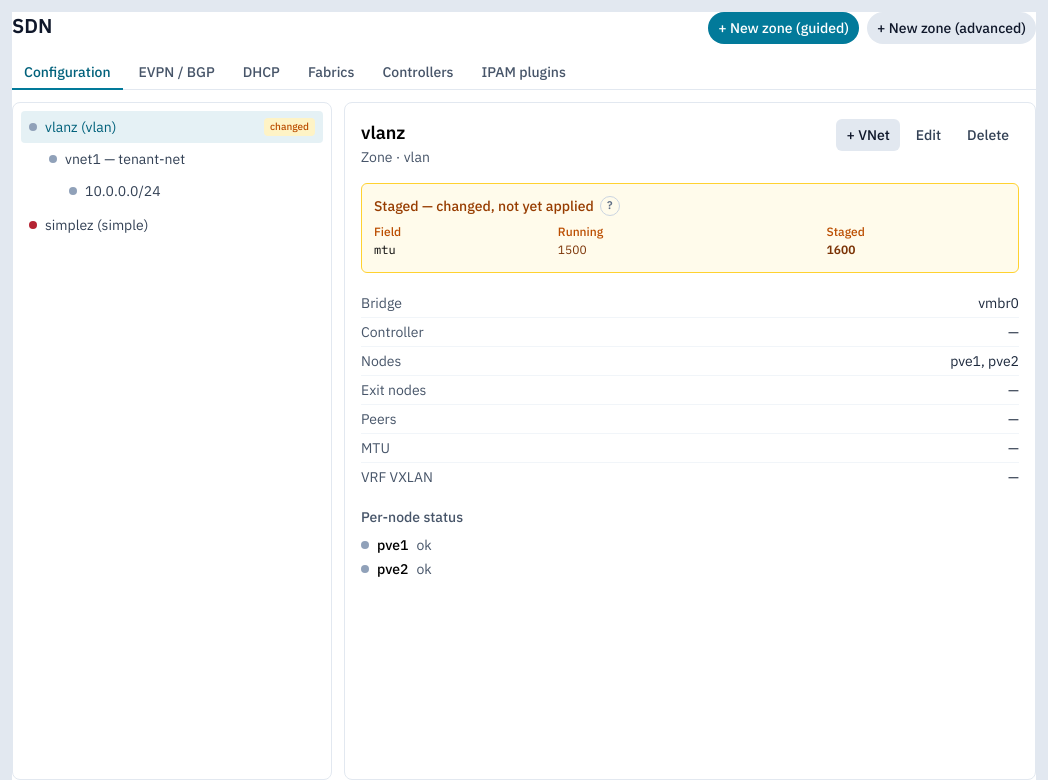
Scenario: SdnPage › selecting a vnet and then a subnet updates the detail panel each time
Expected: the text "vnet1 — tenant-net" is shown, [65,149,185,169]
Click the list item "vnet1 — tenant-net".
click(172, 159)  # box [21,143,323,175]
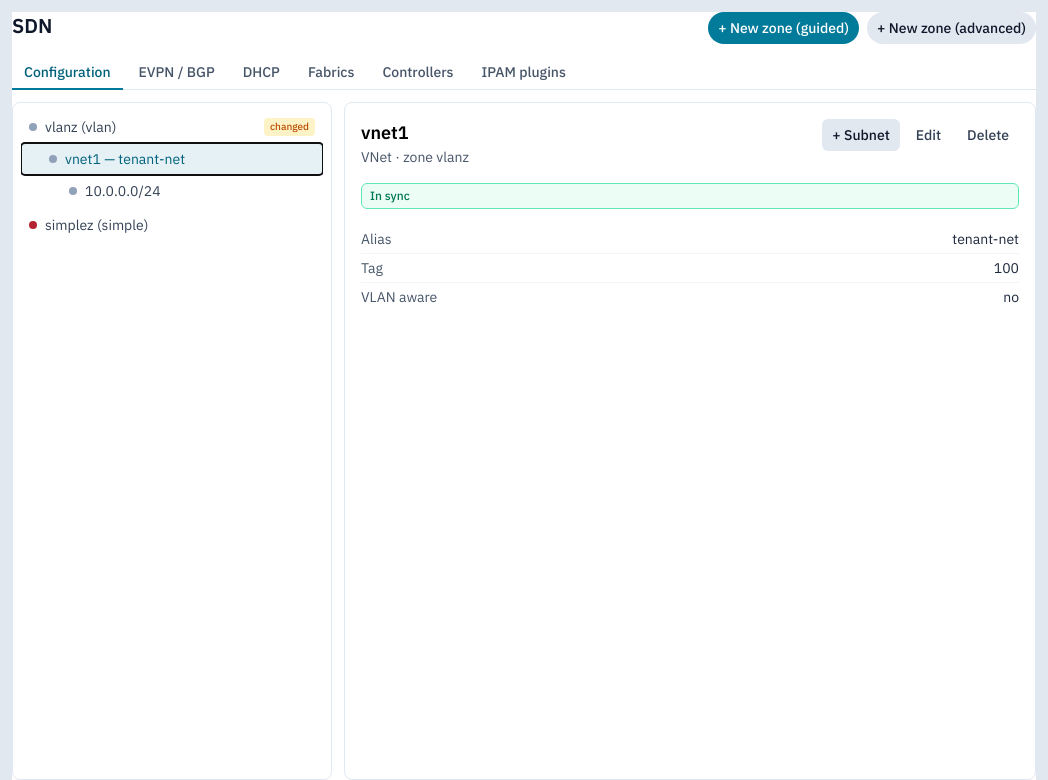
Expected: the heading "vnet1" is shown, [361,121,409,144]
Click the list item "10.0.0.0/24".
click(123, 191)  # box [21,175,323,207]
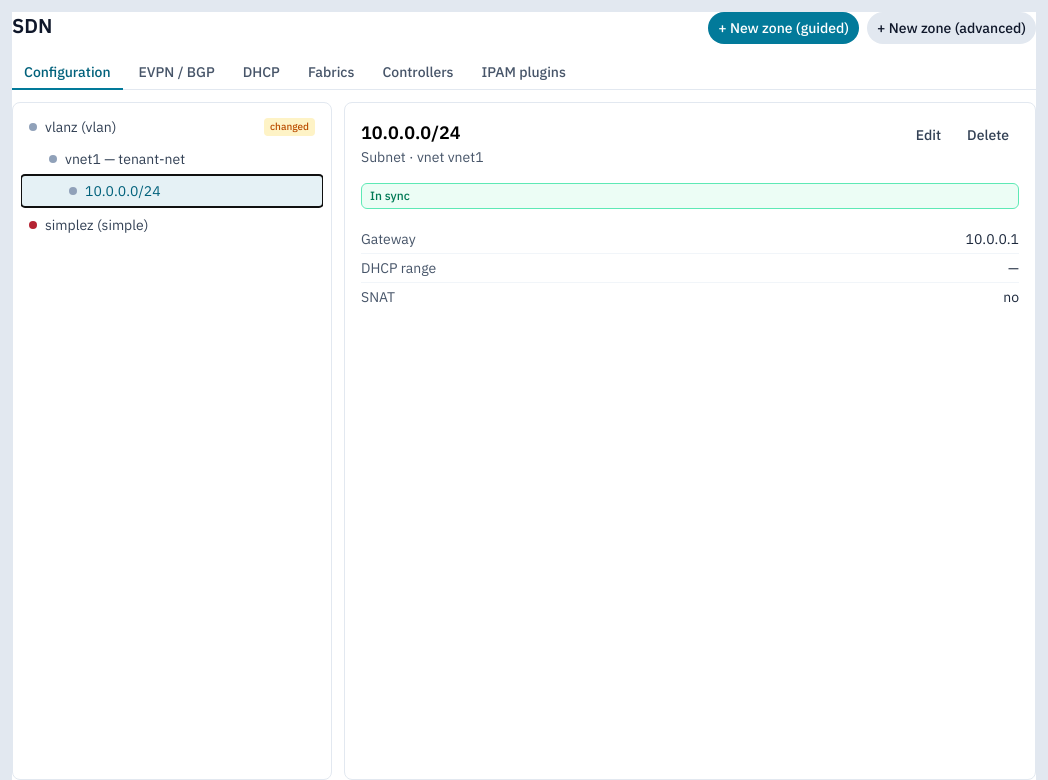
Expected: the heading "10.0.0.0/24" is shown, [361,121,461,144]
Expected: the text "10.0.0.1" is shown, [966,229,1019,249]
